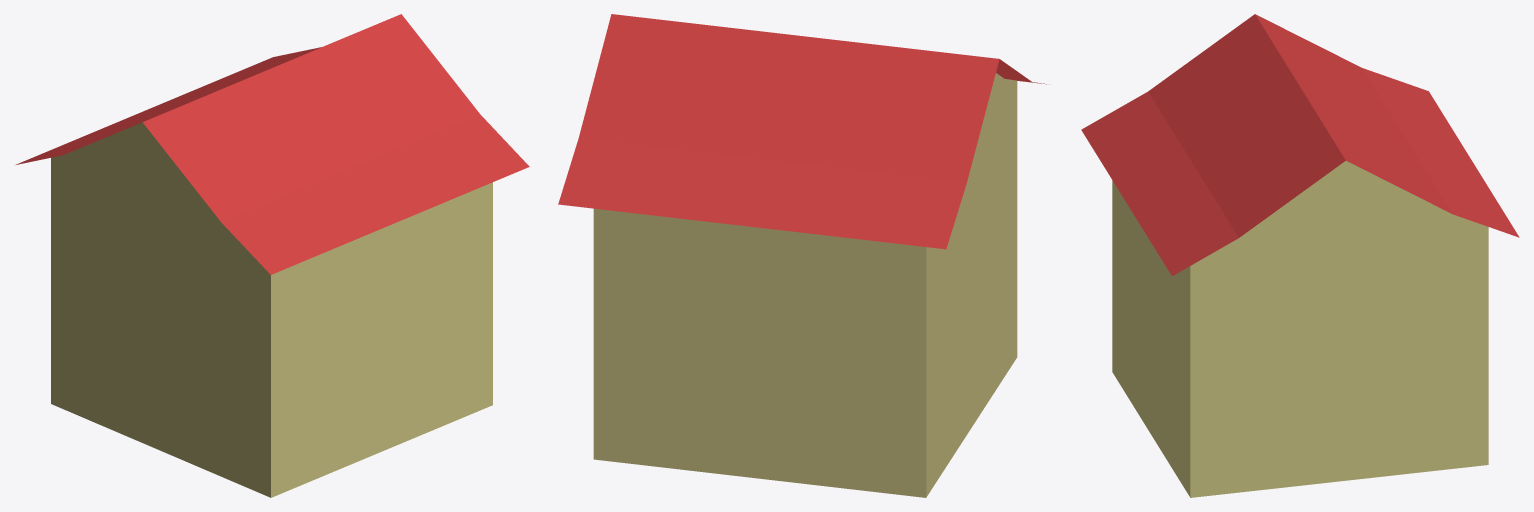
3 renders of one model, left to right at view 1: azimuth 30°, elevation 25°; view 2: azimuth 150°, elevation 25°; view 3: azimuth 270°, elevation 25°, orthographic. The views are drawn at different scales.
Size of the model in its own units: 17.06 by 17.09 by 14.24.
